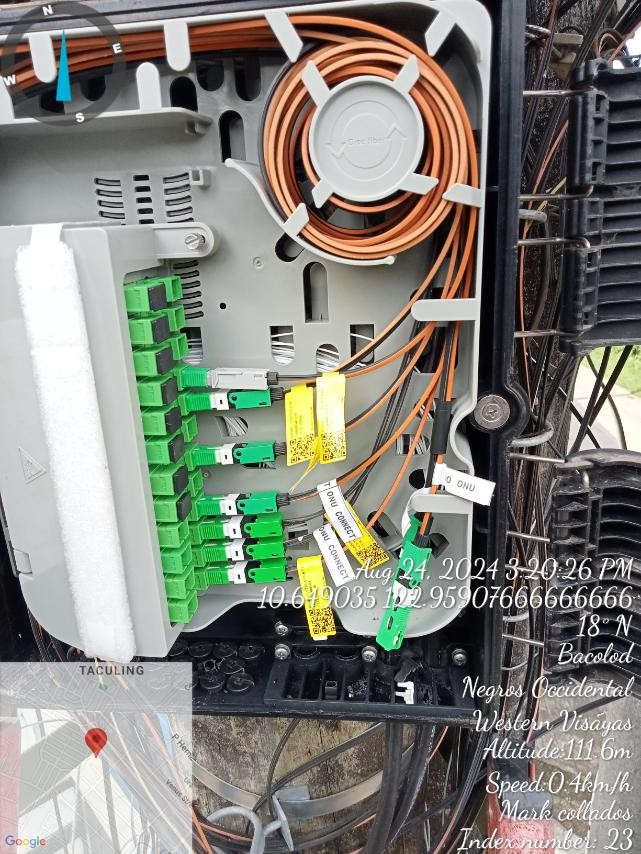no dust cap: (187, 591, 199, 622), (181, 544, 193, 573), (184, 568, 195, 597), (186, 416, 198, 442), (178, 519, 190, 545), (193, 469, 204, 497), (174, 306, 186, 329), (177, 336, 188, 358), (171, 277, 182, 299)
occupied: (200, 488, 292, 517), (180, 368, 279, 393), (196, 439, 291, 465), (189, 387, 282, 412), (203, 514, 288, 541), (206, 559, 289, 585), (205, 537, 284, 563)
vacant: (168, 431, 187, 466), (165, 405, 184, 436), (151, 316, 170, 344), (177, 490, 193, 522), (162, 377, 180, 405), (174, 464, 190, 495), (156, 348, 174, 375), (149, 285, 167, 311)
